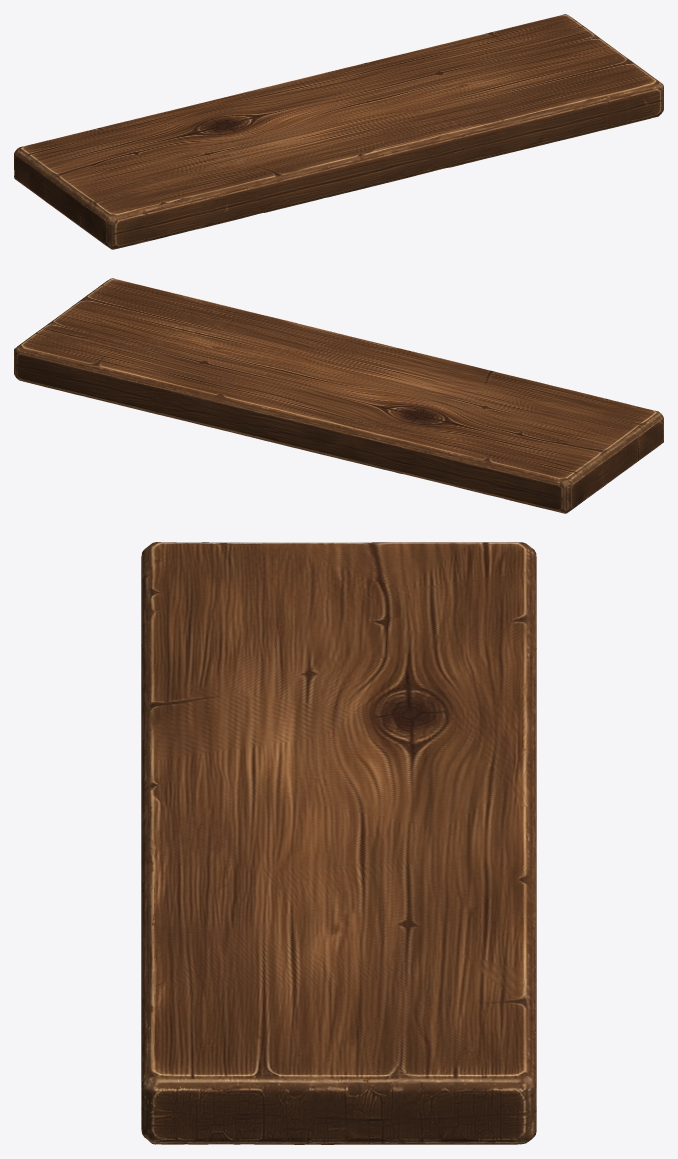
File: tabua.fbx
The picture shows the model from 3 angles, top to bottom: view 1: azimuth 30°, elevation 25°; view 2: azimuth 150°, elevation 25°; view 3: azimuth 270°, elevation 25°; orthographic projection. The views are drawn at different scales.
Visible parts, largest first — view 1: mesh_node; view 2: mesh_node; view 3: mesh_node.
Boxes of the visible parts, x1,y1,x2,y2 form: mesh_node: (14,14,663,249); mesh_node: (14,278,663,513); mesh_node: (141,542,536,1144).
Size of the model in its own units: 190 by 11.3 by 58.36.
Materials: 1 (1 with a texture image).
